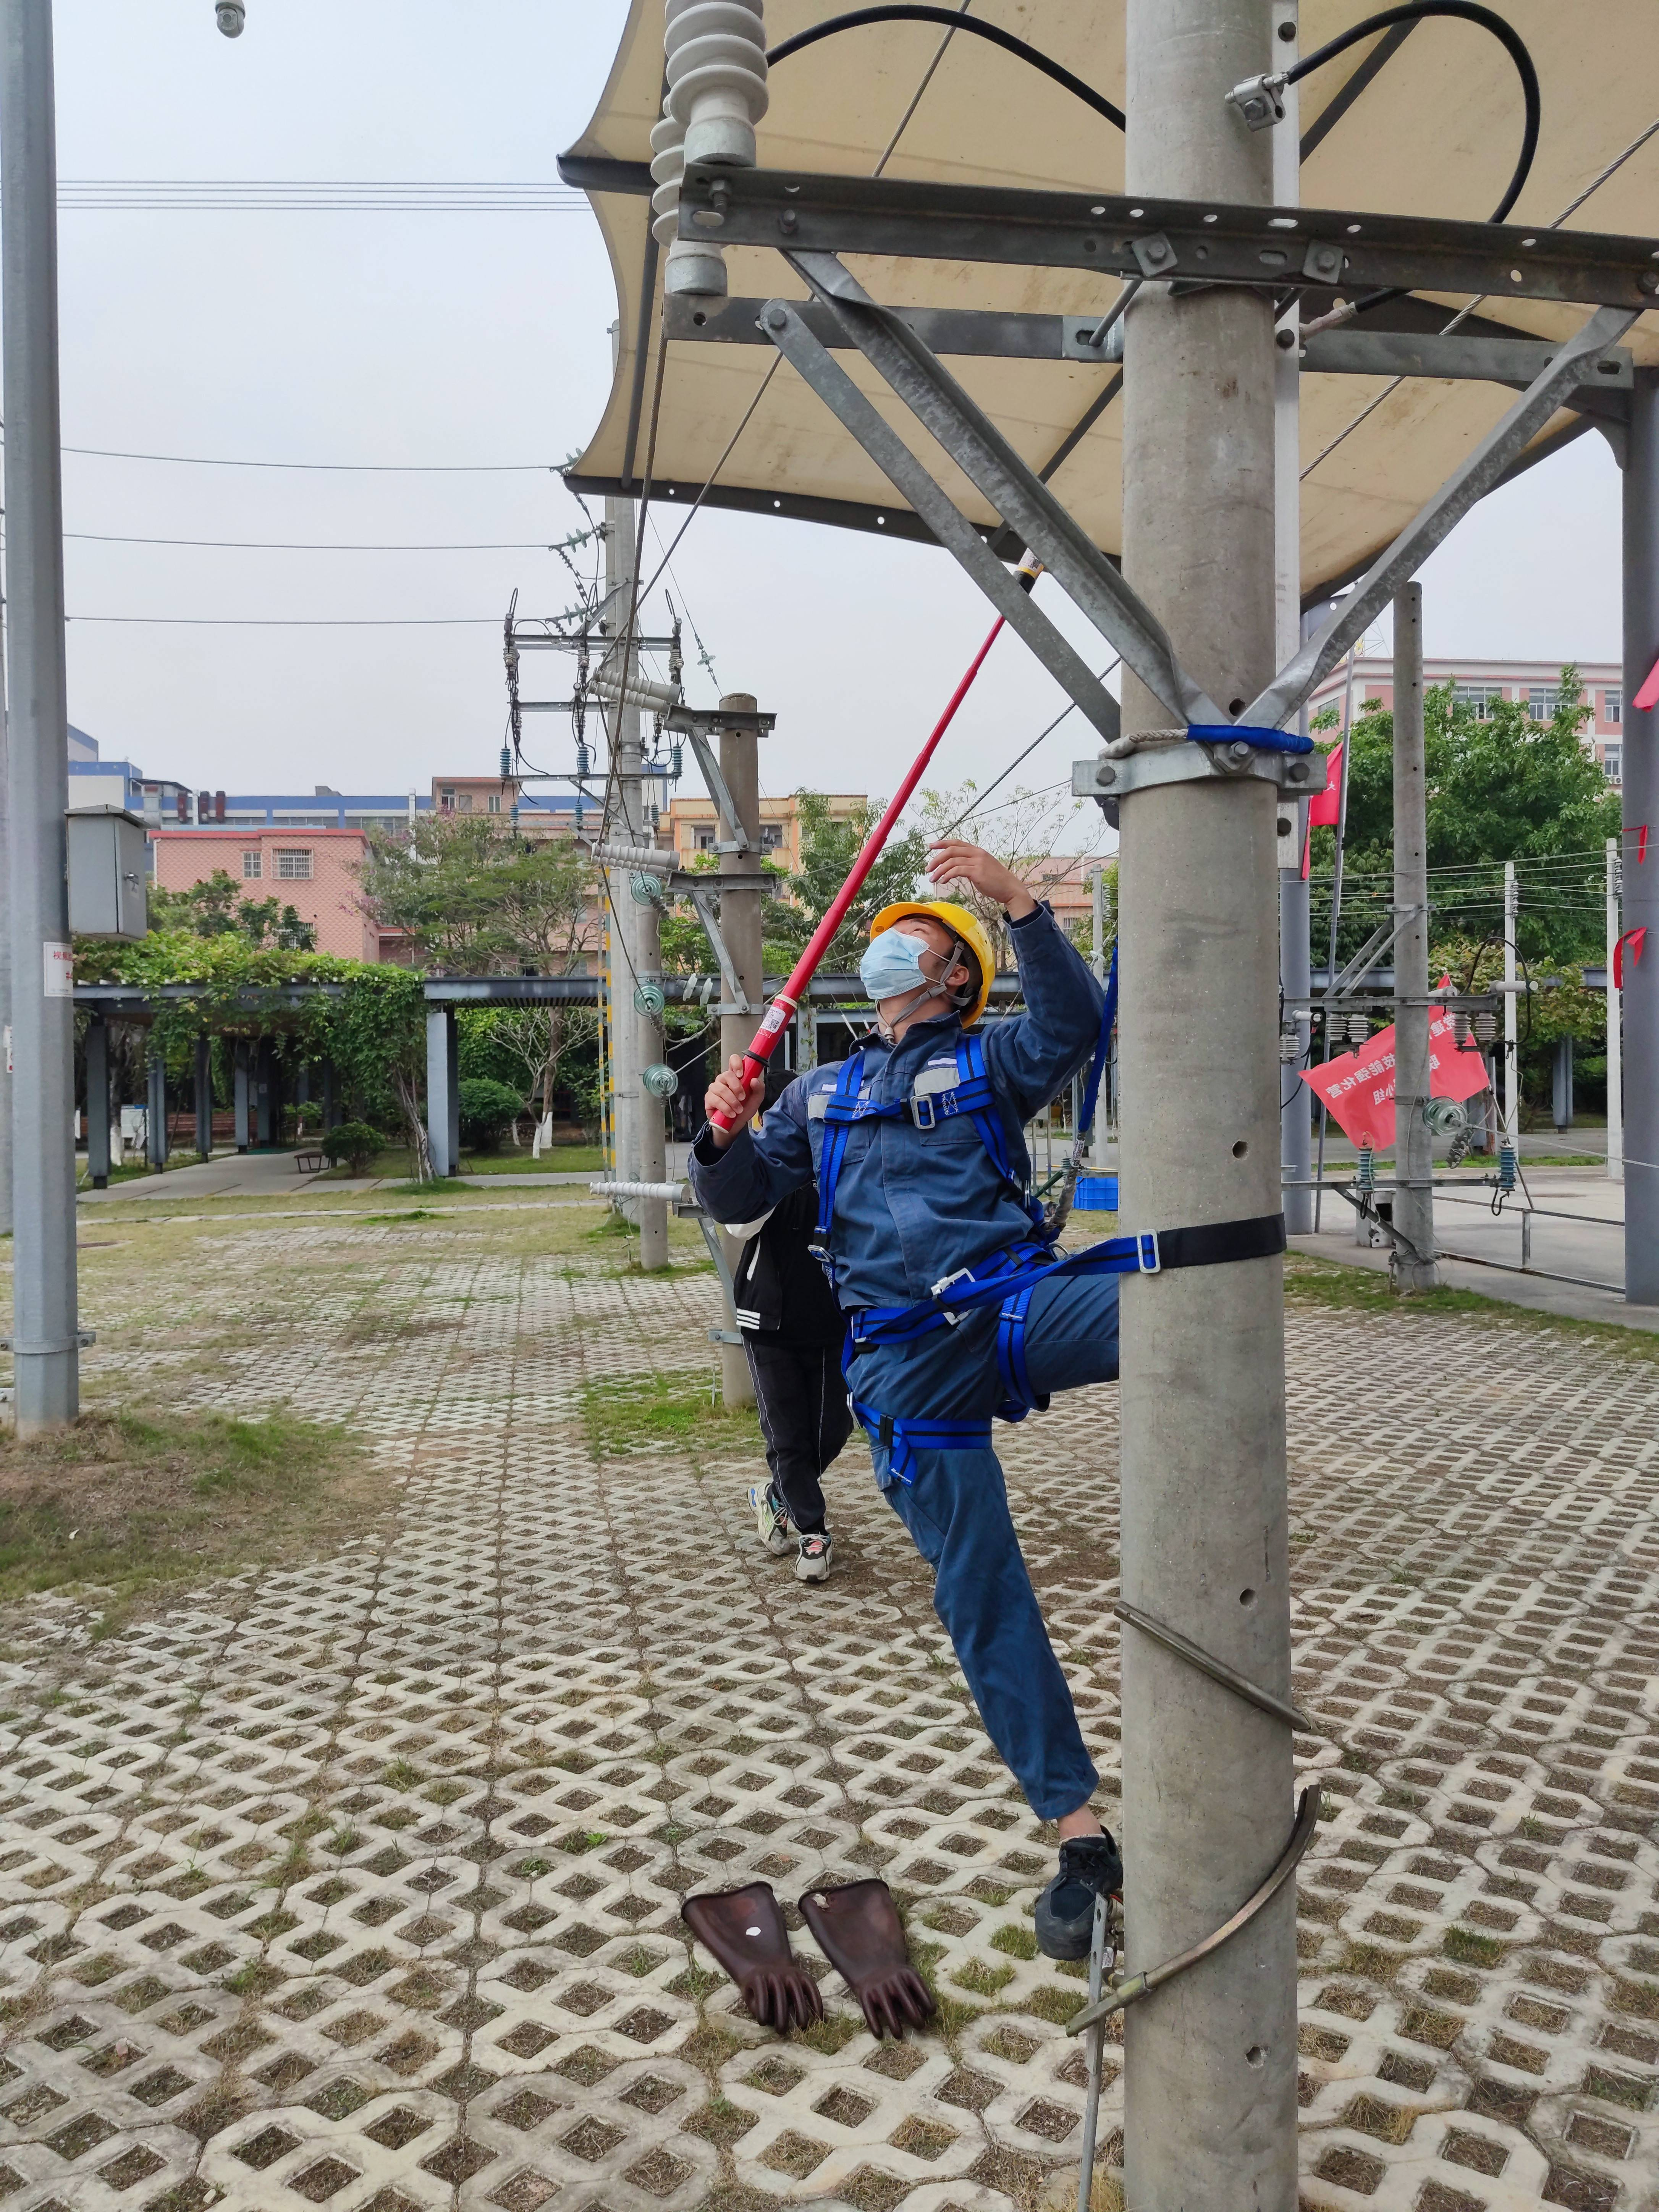downsuit: (857, 1291, 1110, 1810)
upsuit: (688, 1021, 1066, 1285)
